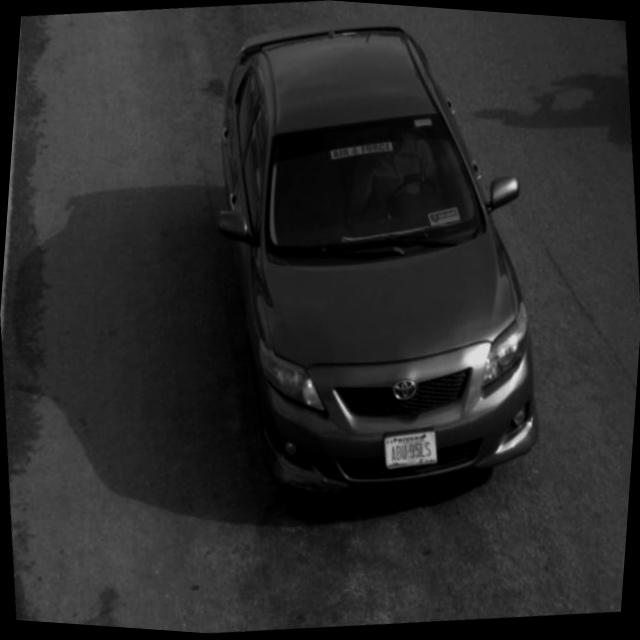person_without_seatbelt: (341, 120, 458, 232)
